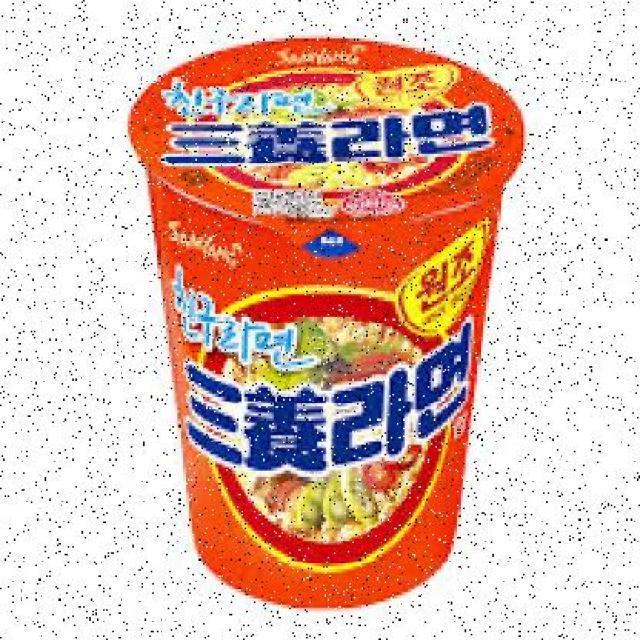Miscellaneous: (121, 29, 507, 602)
